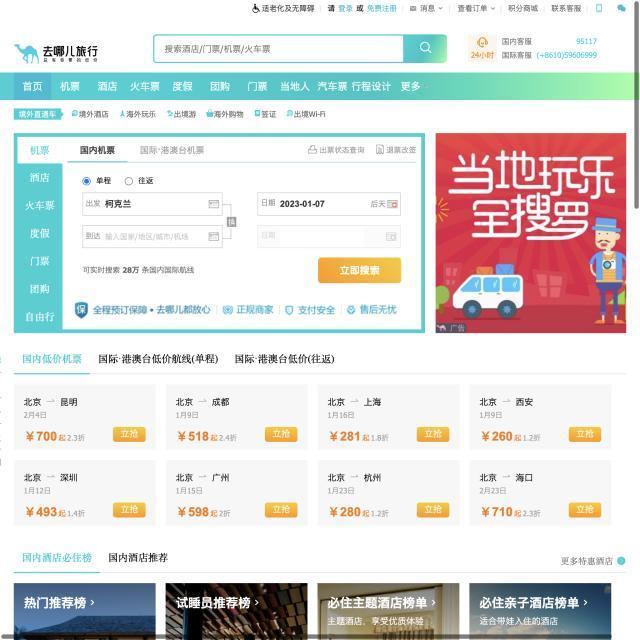button: (316, 254, 406, 285), (402, 30, 448, 66), (566, 422, 604, 446), (566, 498, 604, 520), (412, 500, 452, 520), (262, 500, 300, 521), (415, 424, 453, 444), (110, 500, 148, 520), (263, 424, 300, 444), (111, 424, 147, 444)
input field: (152, 33, 406, 66), (80, 222, 226, 252), (255, 190, 403, 218), (80, 188, 224, 216), (257, 223, 403, 250)
